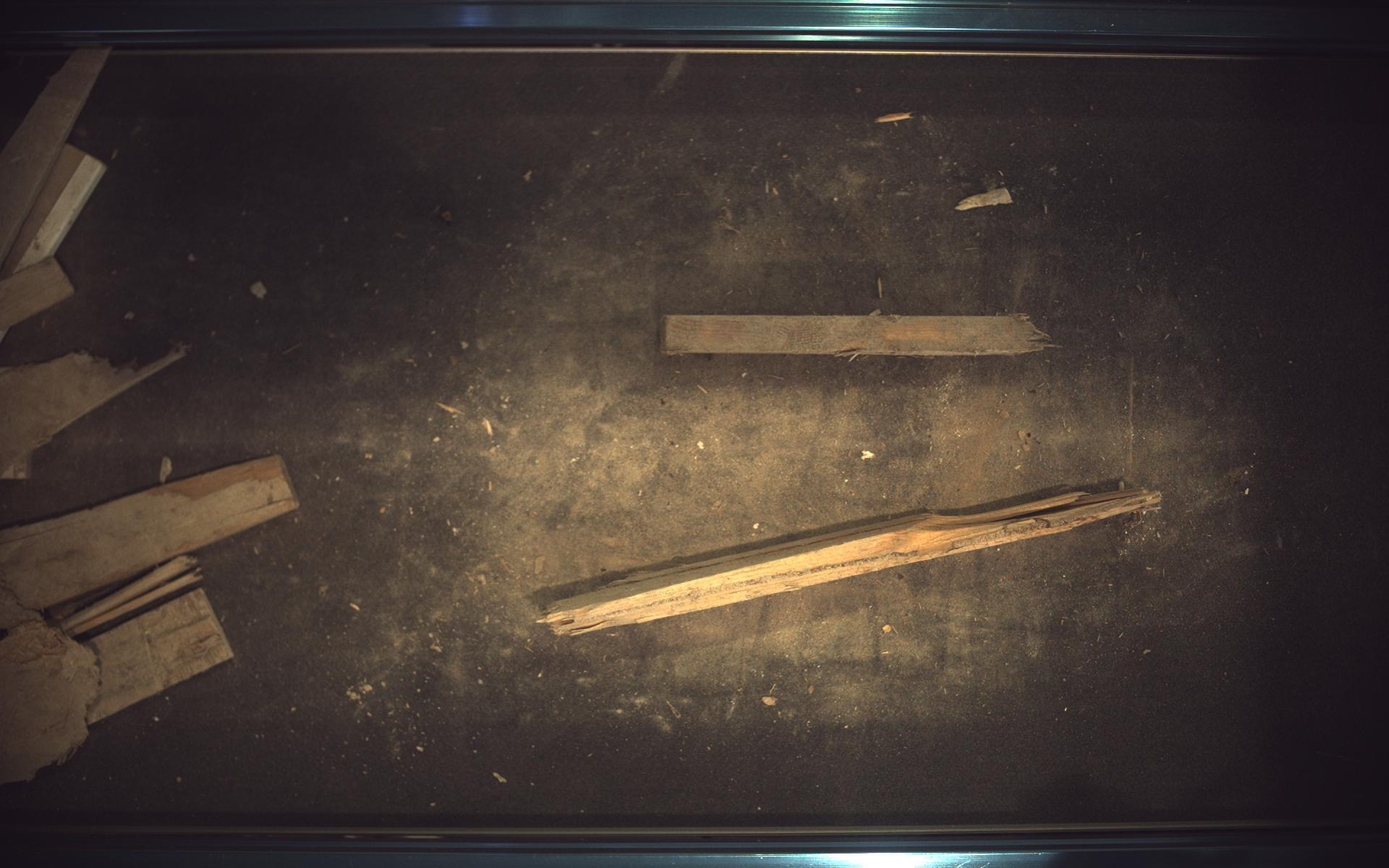wood: (539, 489, 1164, 636), (1, 456, 297, 611), (1, 345, 187, 480), (1, 47, 109, 263), (85, 589, 231, 725), (662, 310, 1056, 357), (1, 620, 98, 785), (1, 143, 105, 278), (58, 556, 202, 638), (1, 257, 72, 330)
